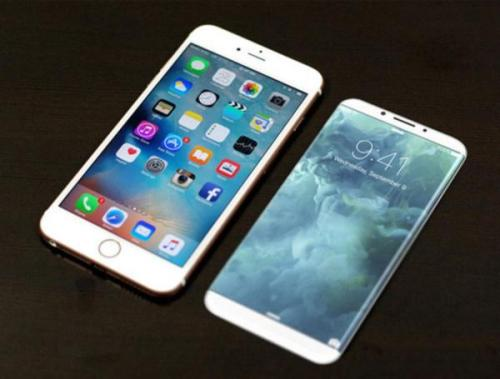phone: (228, 104, 466, 339), (63, 42, 282, 285)
